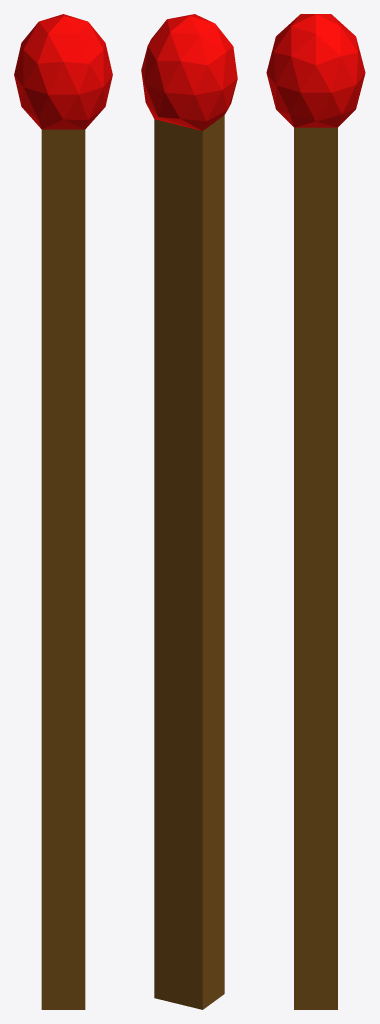
Rendered from LuciferSepperated.fbx.
3 renders of one model, left to right at view 1: azimuth 90°, elevation 25°; view 2: azimuth 150°, elevation 25°; view 3: azimuth 270°, elevation 25°, orthographic.
Parts seen in each view (by area): view 1: Wood, Tip; view 2: Wood, Tip; view 3: Wood, Tip.
Part boxes in pixels (x1,y1,x2,y2): Wood: (41, 129, 85, 1009); Tip: (14, 14, 112, 129); Wood: (154, 115, 224, 1009); Tip: (141, 14, 237, 130); Wood: (294, 127, 337, 1009); Tip: (266, 14, 365, 127).
Bounding box in the file's own units: 336 × 3867 × 353.
